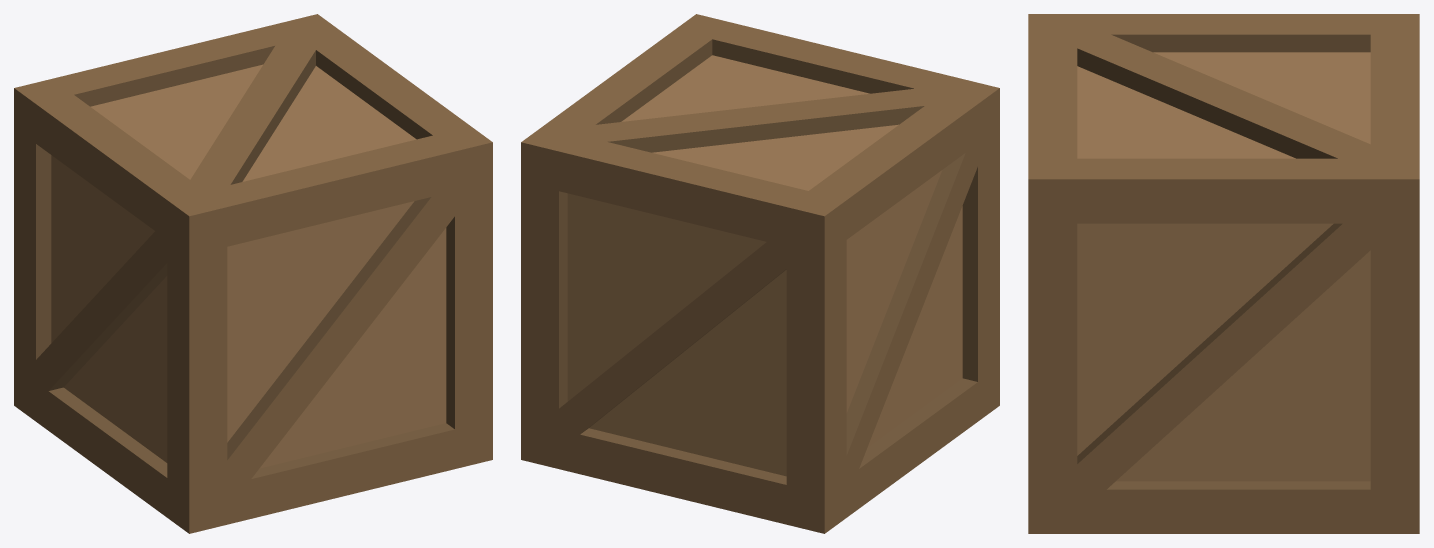
File: Crate.fbx
3 views of the same model, side by side, from view 1: azimuth 30°, elevation 25°; view 2: azimuth 150°, elevation 25°; view 3: azimuth 270°, elevation 25° (orthographic). The views are drawn at different scales.
Parts seen in each view (by area): view 1: Cube; view 2: Cube; view 3: Cube.
Part boxes in pixels (bbox=[...]): Cube: bbox=[14, 14, 492, 533]; Cube: bbox=[521, 14, 999, 533]; Cube: bbox=[1028, 14, 1419, 533].
Size of the model in its own units: 200 by 200 by 200.
